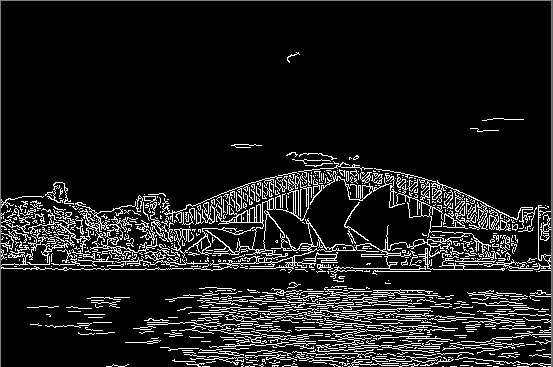opera house: (184, 162, 447, 263)
